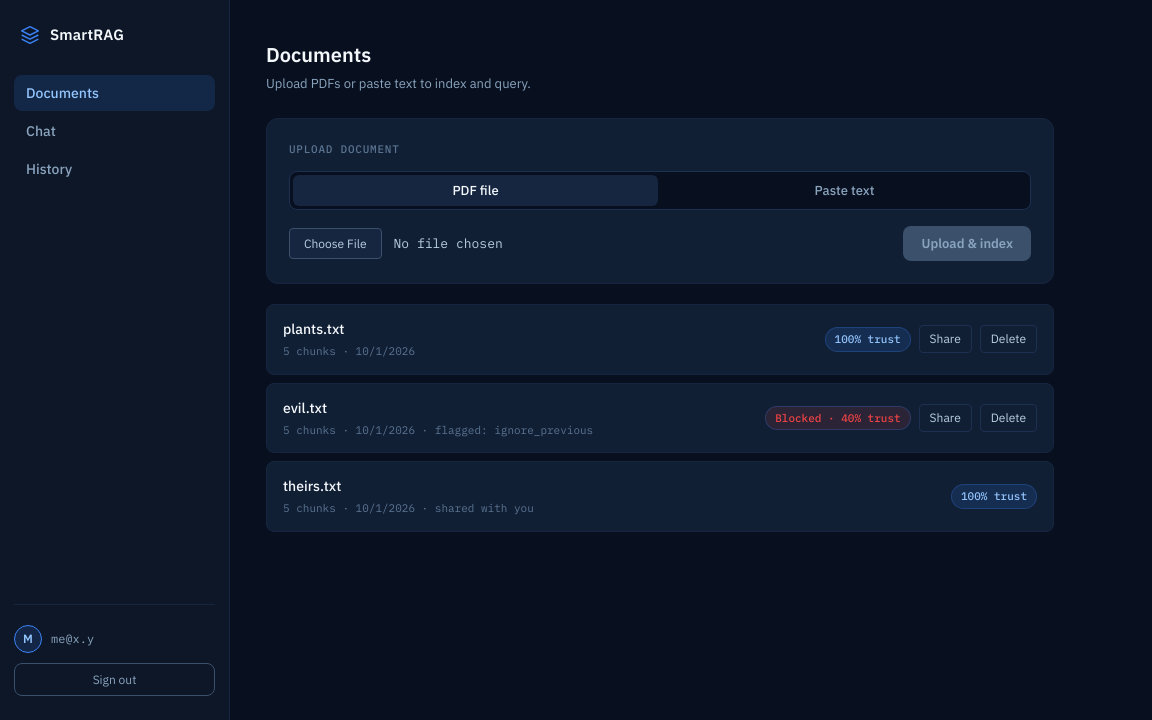
it: documents › deletes only after confirmation
The image size is (1152, 720).
Check: the text "plants.txt" is shown, box [283,320,344,338]
Click the button with aria-label "Delete plants.txt" at point(1008, 339), box [980,325,1037,353]
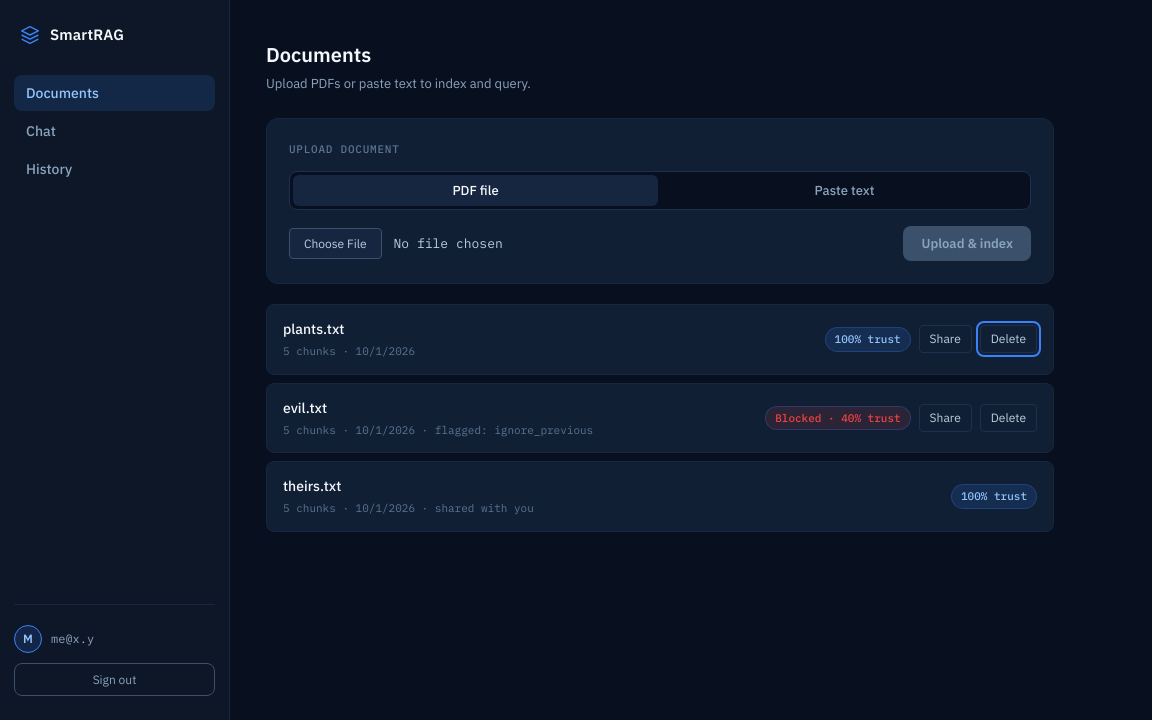
Click the button with aria-label "Delete plants.txt" at point(1008, 339), box [980,325,1037,353]
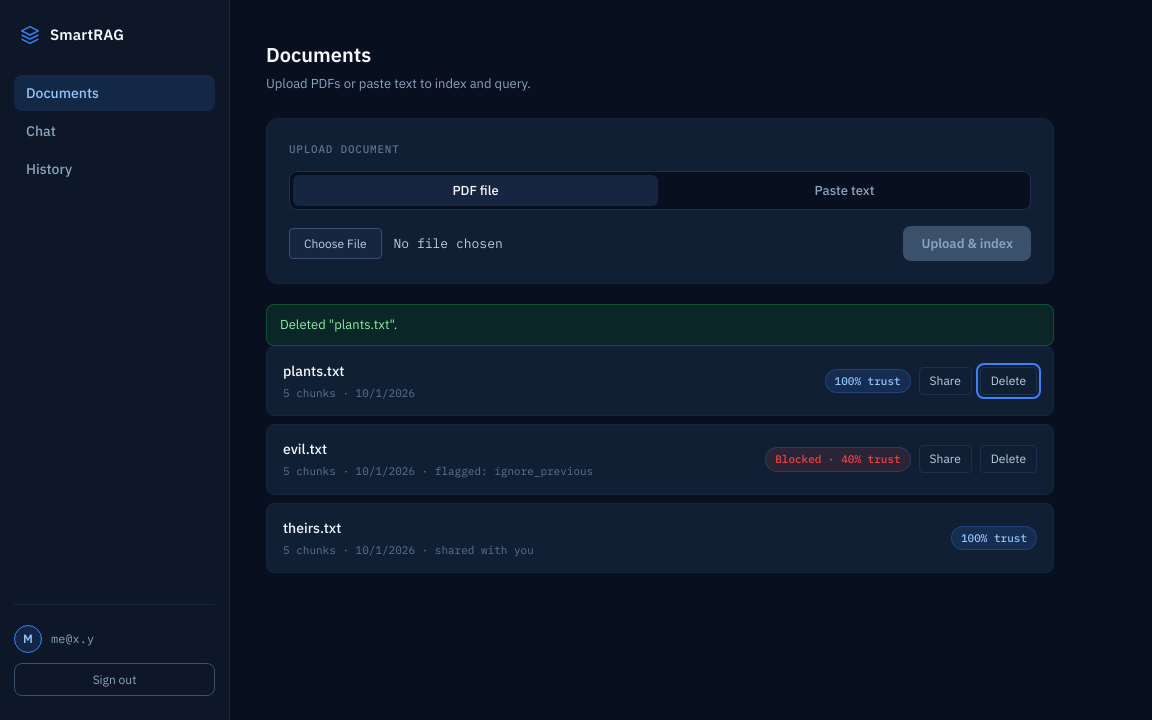
Check: the text "Deleted \"plants.txt\"." is shown, box [266,304,1054,346]
